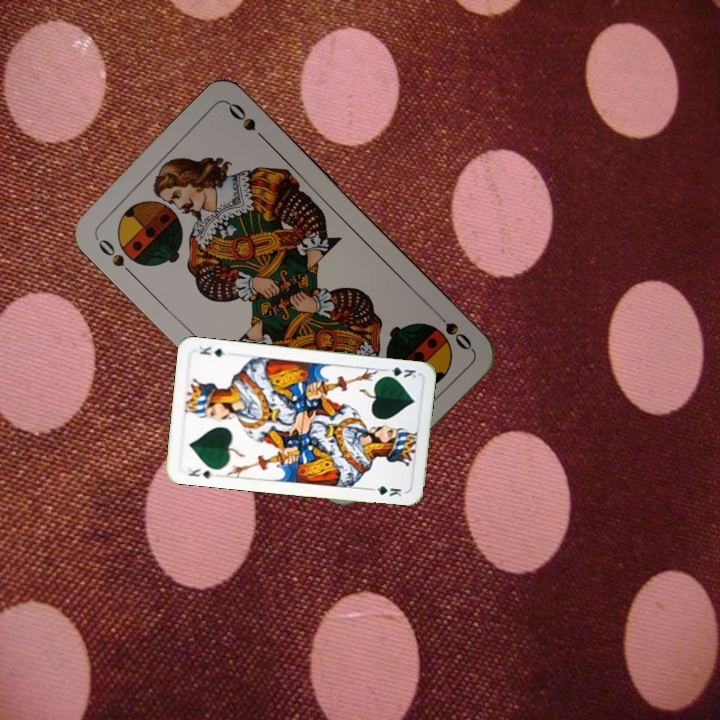GK: (379, 363, 418, 380), (185, 464, 216, 481)
SO: (429, 305, 475, 353), (91, 231, 137, 279)
